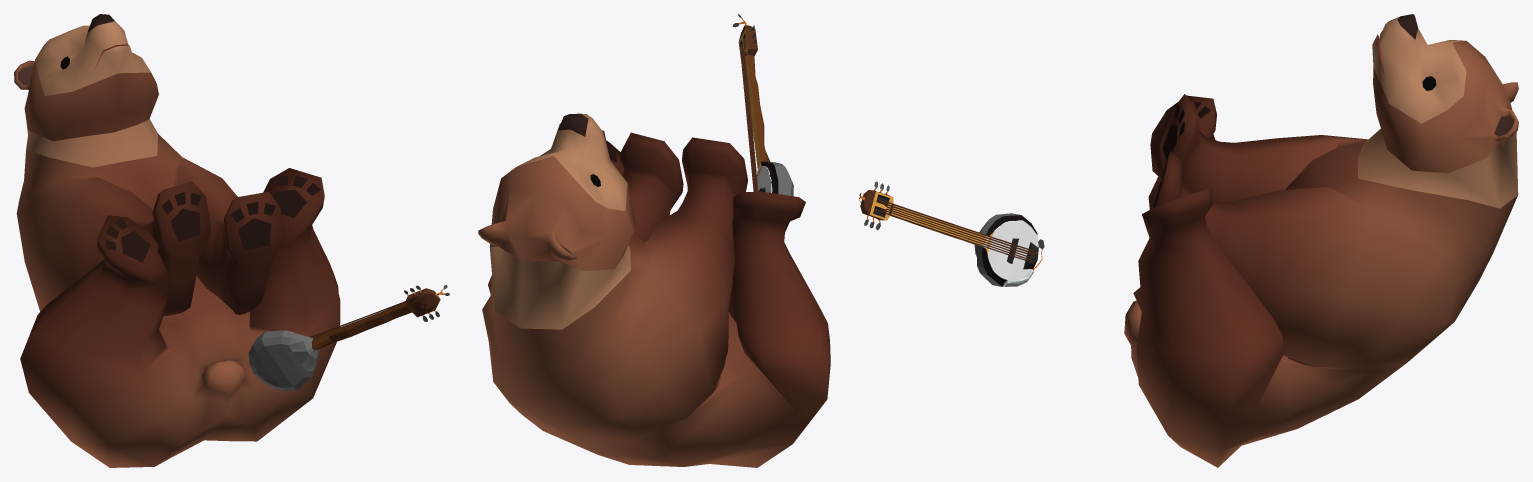
Rendered from bear_with_banjo.glb.
The picture shows the model from 3 angles, left to right: view 1: azimuth 30°, elevation 25°; view 2: azimuth 150°, elevation 25°; view 3: azimuth 270°, elevation 25°; orthographic projection. The views are drawn at different scales.
Parts seen in each view (by area): view 1: Bear, Banjo; view 2: Bear, Banjo; view 3: Bear, Banjo.
Boxes of the visible parts, left/top/right/bottom form: Bear: left=14, top=14, right=340, bottom=467; Banjo: left=248, top=285, right=449, bottom=390; Bear: left=478, top=113, right=830, bottom=467; Banjo: left=732, top=14, right=793, bottom=196; Bear: left=1124, top=14, right=1518, bottom=467; Banjo: left=859, top=181, right=1044, bottom=286.
Size of the model in its own units: 1.41 by 1.58 by 2.31.
